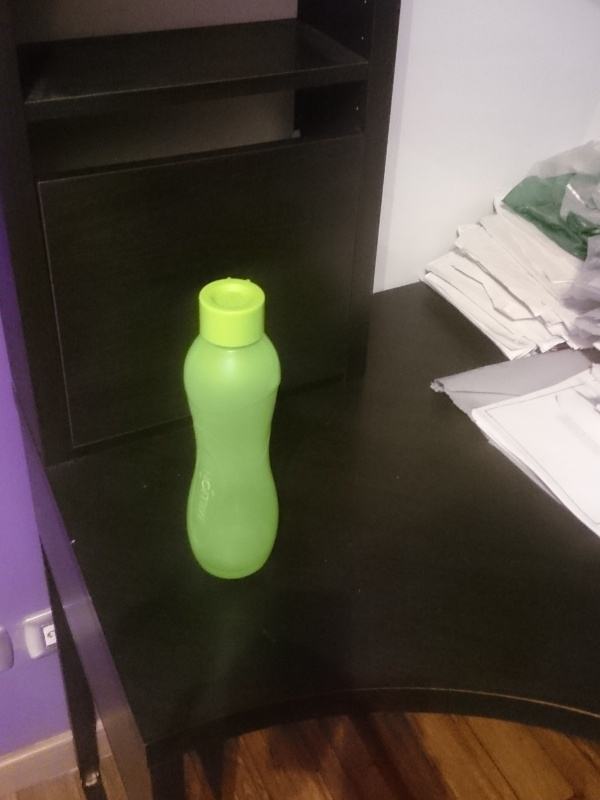my bottle: (179, 276, 279, 579)
